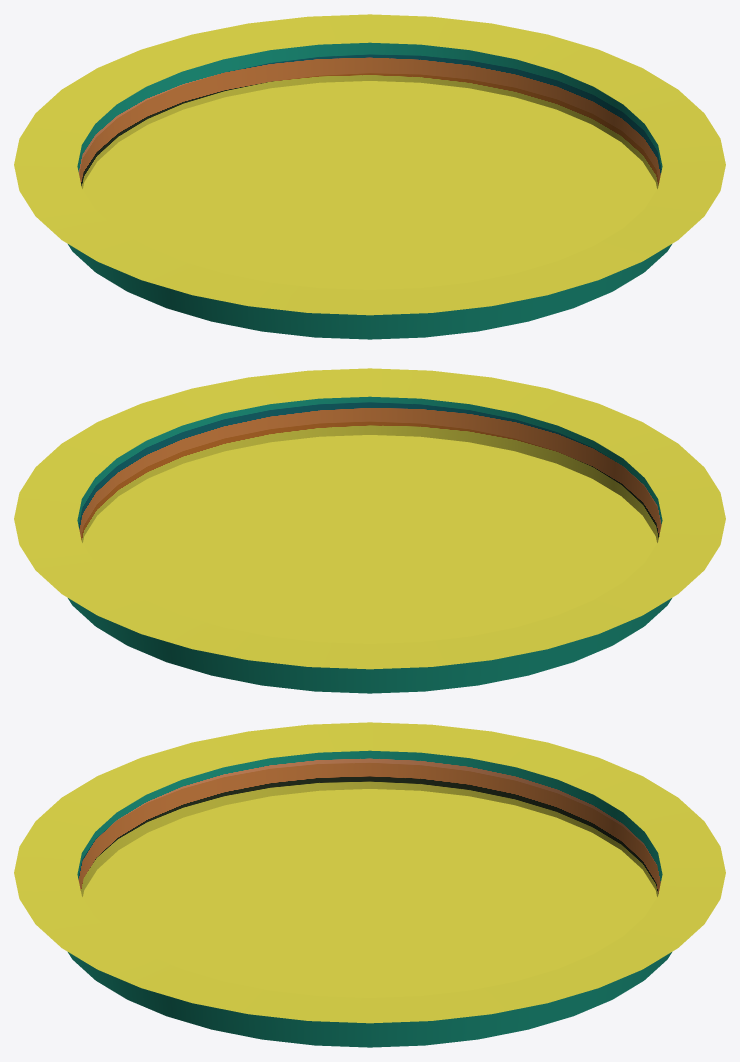
Rendered from SM_Dishes_2.fbx.
3 renders of one model, top to bottom at view 1: azimuth 30°, elevation 25°; view 2: azimuth 150°, elevation 25°; view 3: azimuth 270°, elevation 25°, orthographic.
Parts seen in each view (by area): view 1: SM_Dishes_2; view 2: SM_Dishes_2; view 3: SM_Dishes_2.
Boxes of the visible parts, <box> form: SM_Dishes_2: <box>14,14,725,339</box>; SM_Dishes_2: <box>14,368,725,693</box>; SM_Dishes_2: <box>14,722,725,1047</box>.
Bounding box in the file's own units: 24.12 × 24.12 × 1.53.
Materials: 1 (1 with a texture image).
